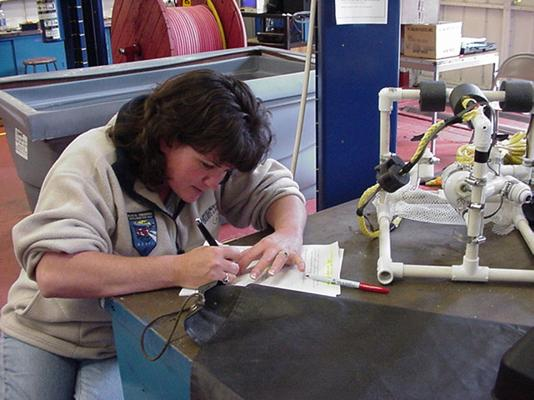person: (3, 69, 307, 398)
